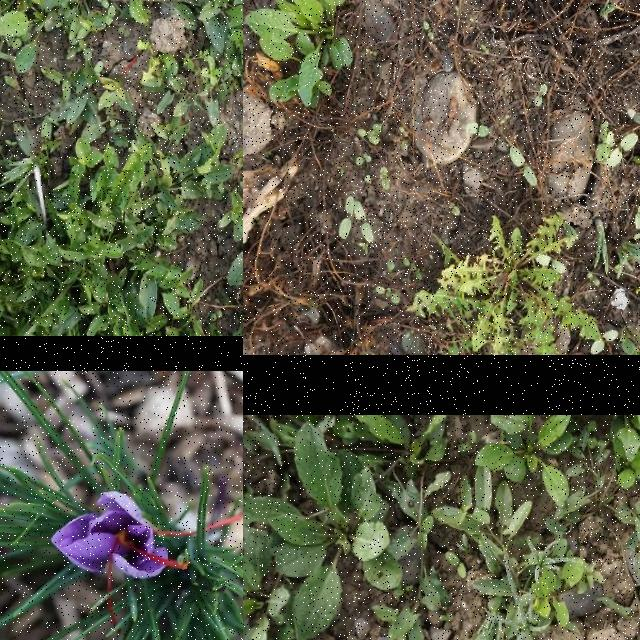flower: (51, 490, 242, 634)
